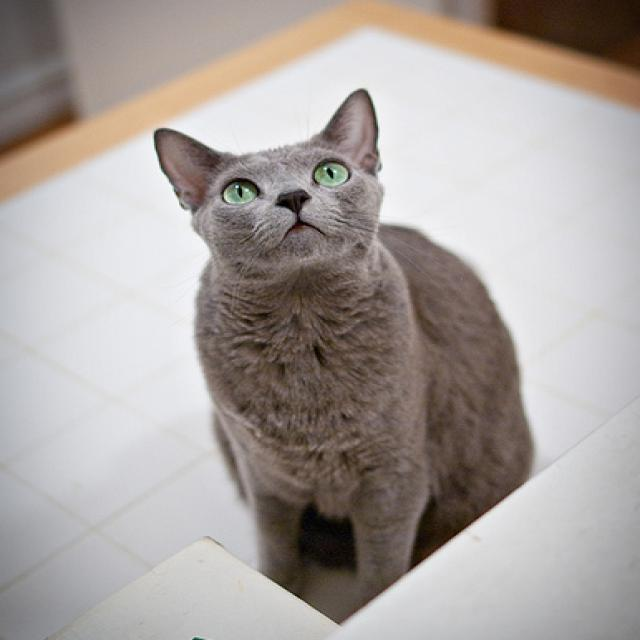Russian Blue: (152, 86, 537, 617)
